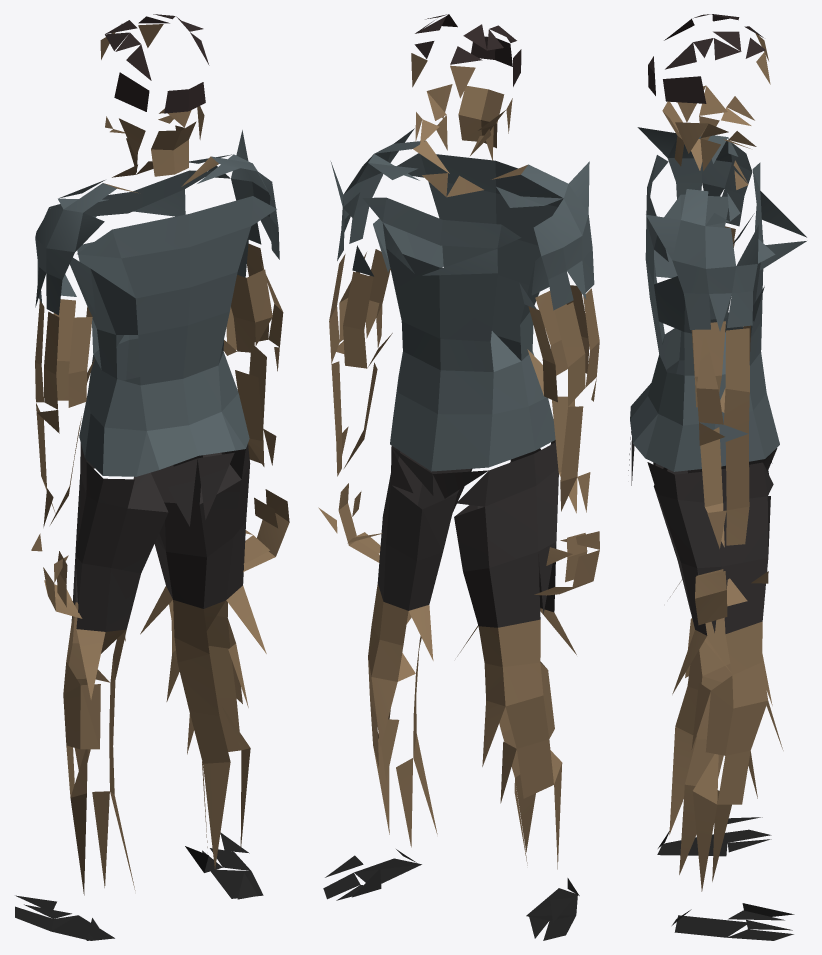
File: personfar_3_idle.fbx
3 views of the same model, side by side, from view 1: azimuth 30°, elevation 25°; view 2: azimuth 150°, elevation 25°; view 3: azimuth 270°, elevation 25° (orthographic).
Parts seen in each view (by area): view 1: BaseHuman; view 2: BaseHuman; view 3: BaseHuman.
Boxes of the visible parts, <box> form: BaseHuman: <box>15,14,289,940</box>; BaseHuman: <box>318,14,599,940</box>; BaseHuman: <box>628,14,806,940</box>.
Bounding box in the file's own units: 0.2881 × 0.973 × 0.183.
